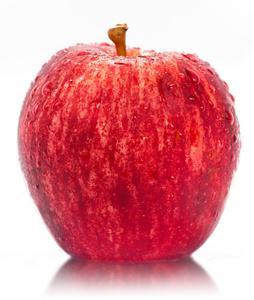apple: (16, 40, 239, 261)
